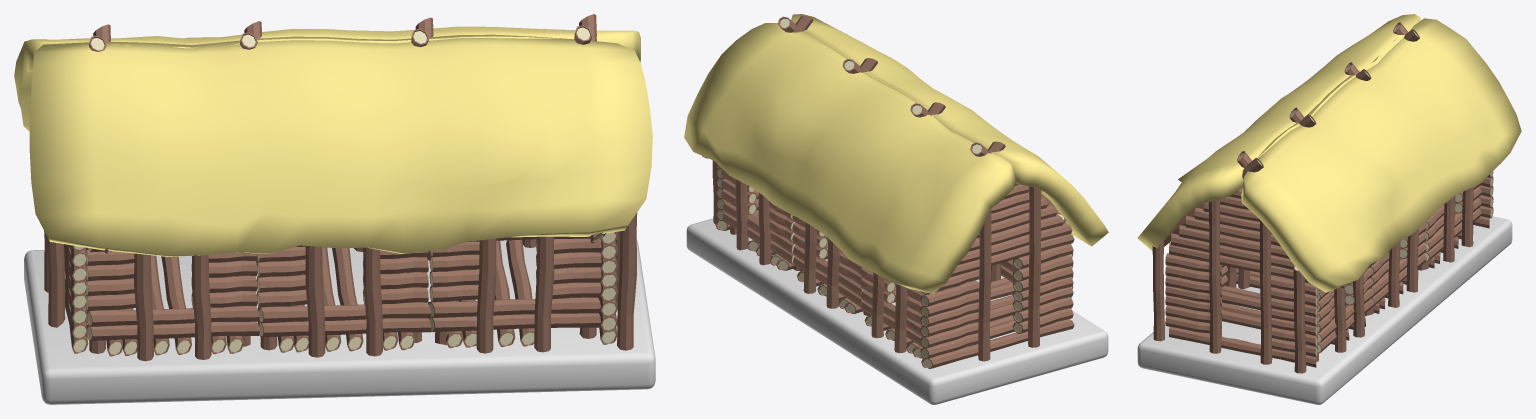
Rendered from House.fbx.
3 views of the same model, side by side, from view 1: azimuth 30°, elevation 25°; view 2: azimuth 150°, elevation 25°; view 3: azimuth 270°, elevation 25° (orthographic). The views are drawn at different scales.
Visible parts, largest first — view 1: Plane.001; view 2: Plane.001; view 3: Plane.001.
Boxes of the visible parts, x1,y1,x2,y2 form: Plane.001: [14, 14, 655, 404]; Plane.001: [684, 14, 1108, 404]; Plane.001: [1137, 14, 1521, 404].
Size of the model in its own units: 4558 by 2295 by 3674.
